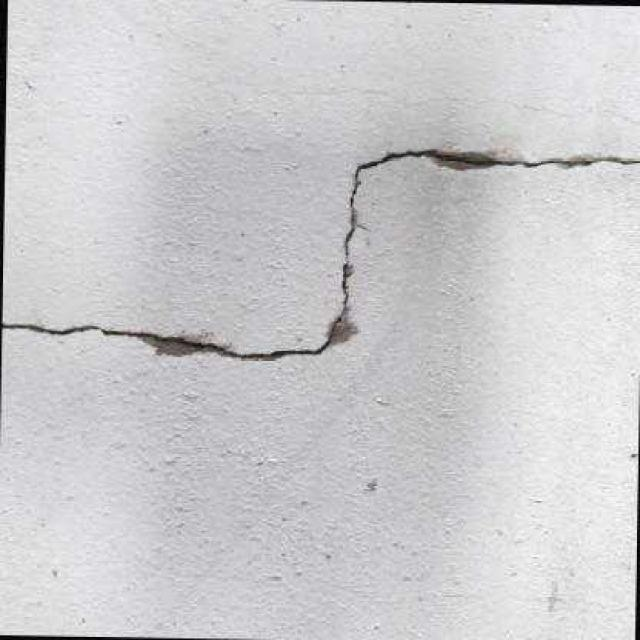D00: (0, 148, 640, 358)
